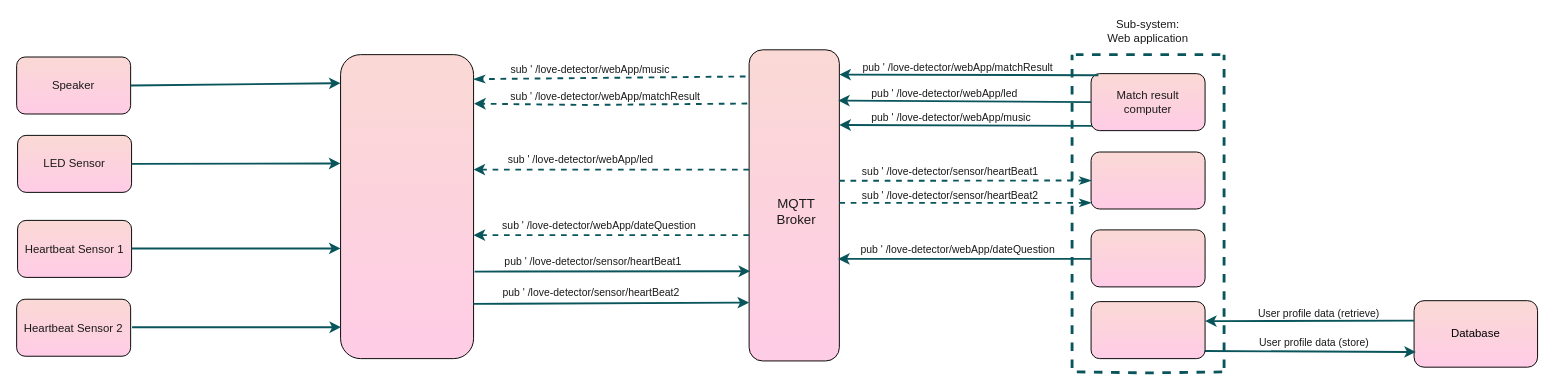
Some shapes in this 1554 by 391 pixel diagram are drawn without their labels. The box of each missing label's shape, as (x1, y1, x2, y2) in pixels:
Question generator: (1090, 229, 1205, 287)
Sensor data processor: (1090, 151, 1205, 209)
User Analysis: (1090, 301, 1205, 359)
WIO Terminal: (340, 54, 474, 359)
